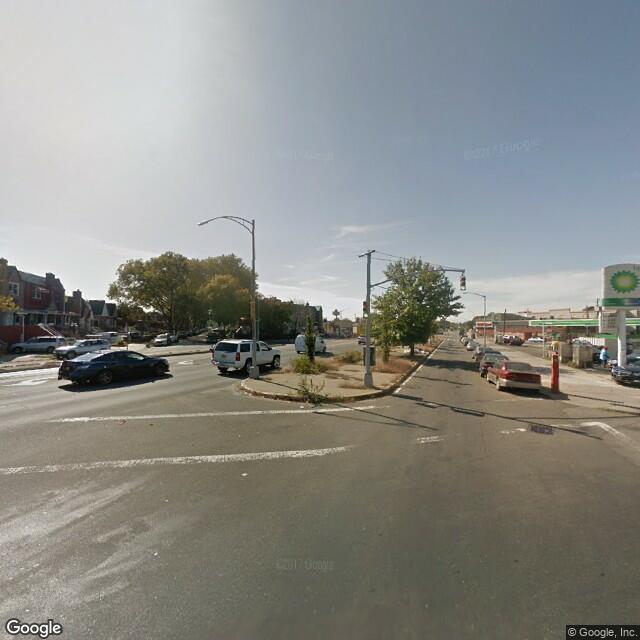litter: (231, 466, 265, 483), (292, 399, 316, 414)
